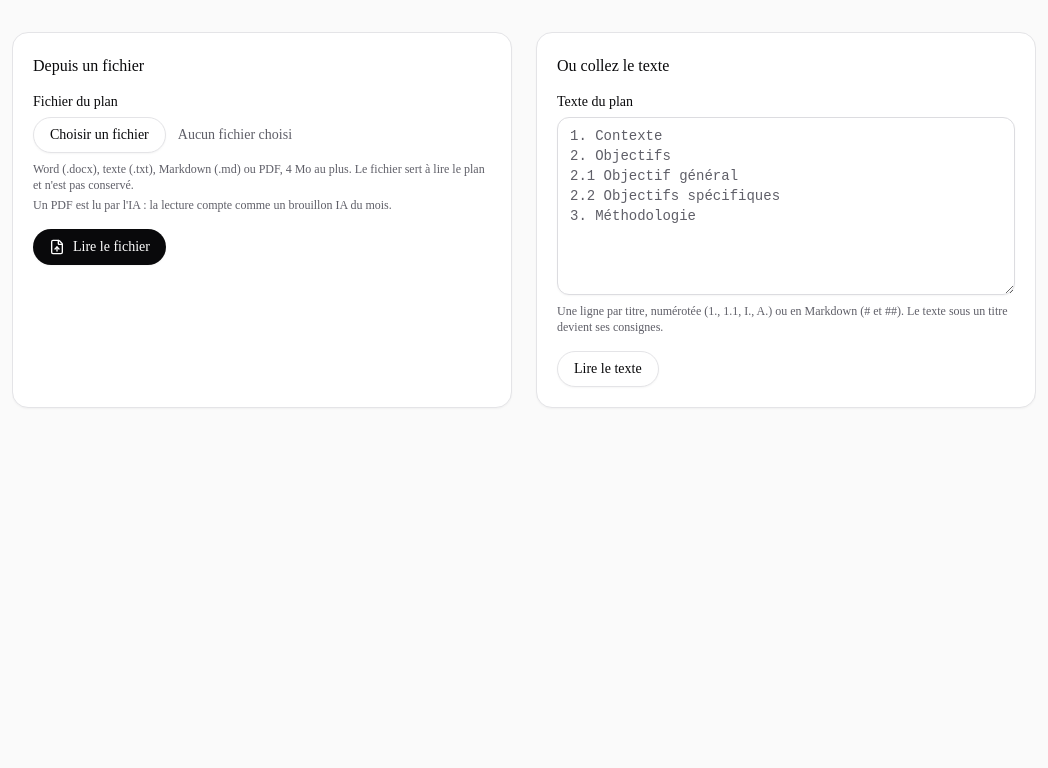
Test: PlanImport, preview › opens the instructions of an item
Replace the text in the text box labelled "Texte du plan" with "1. Contexte": (786,206) [557, 117, 1015, 295]
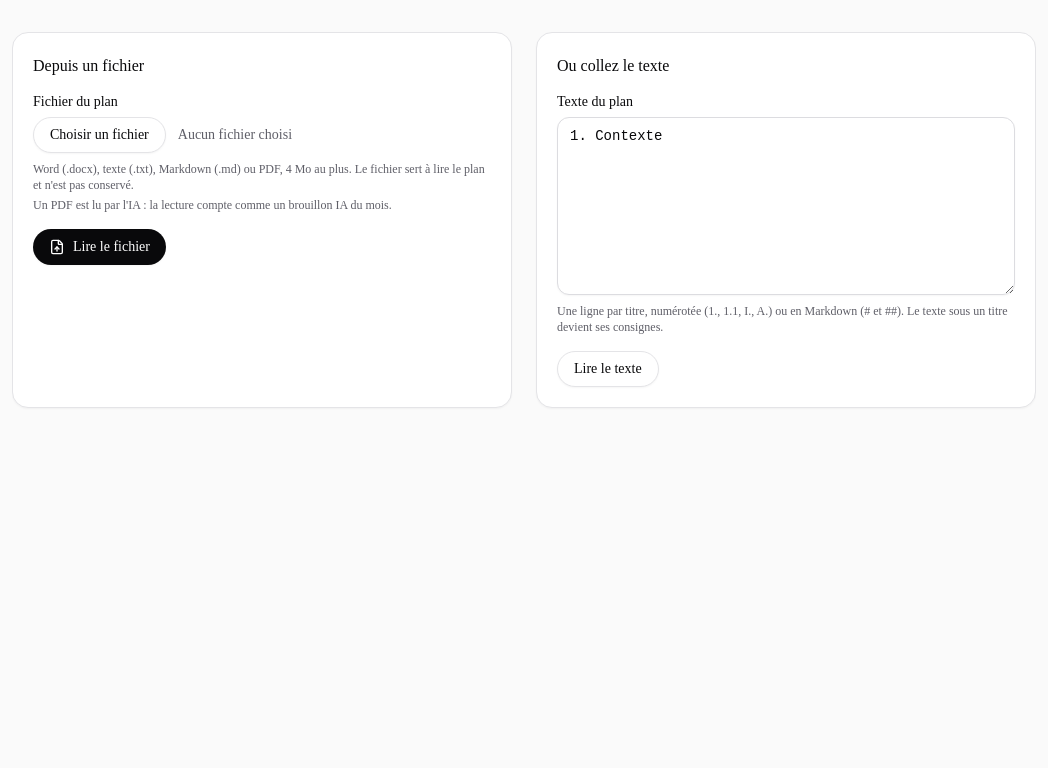
Click the button "Lire le texte": (608,369) [557, 351, 659, 387]
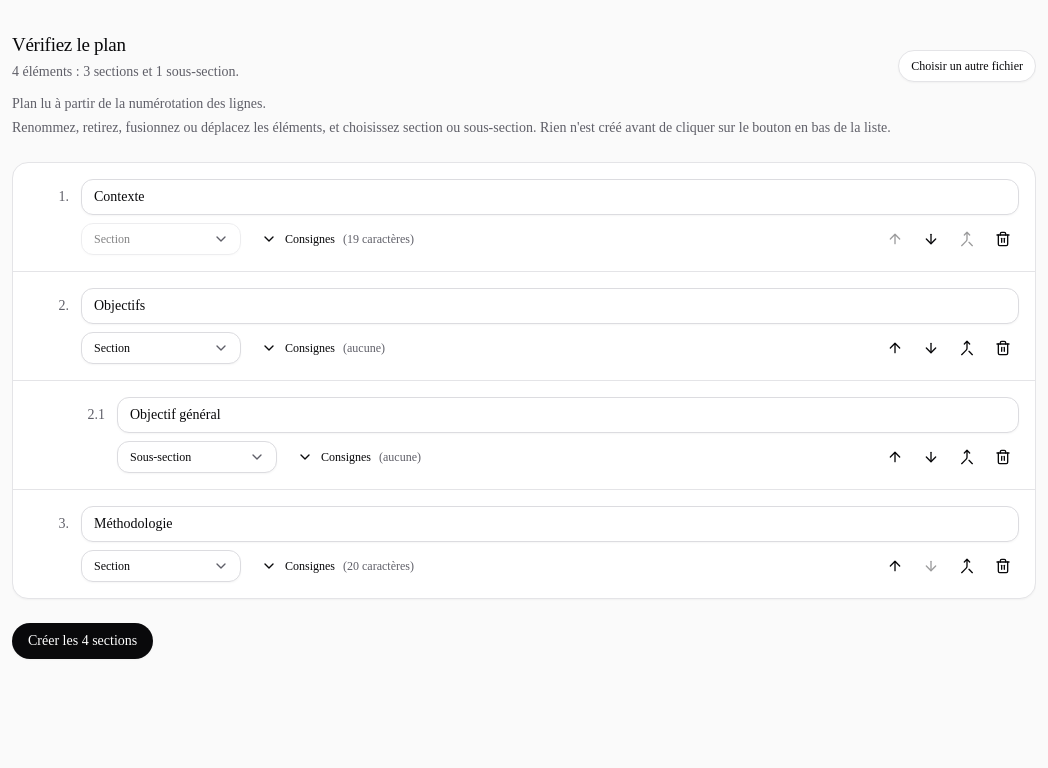
Expected: the button "Consignes (19 caractères)" is shown
Click the button "Consignes (19 caractères)": (338,239) [249, 223, 426, 255]
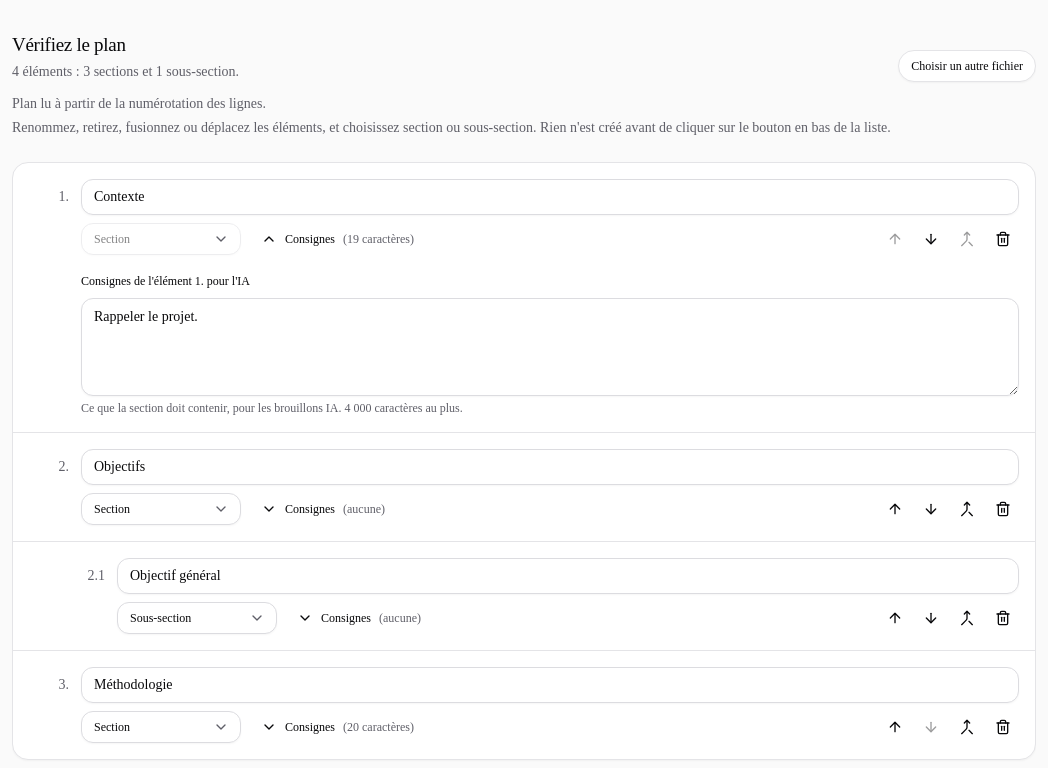
Expected: the button "Consignes (19 caractères)" is expanded, [249, 223, 426, 255]
Expected: the text box labelled "Consignes de l'élément 1. pour l'IA" holds "Rappeler le projet.", [81, 298, 1019, 396]
